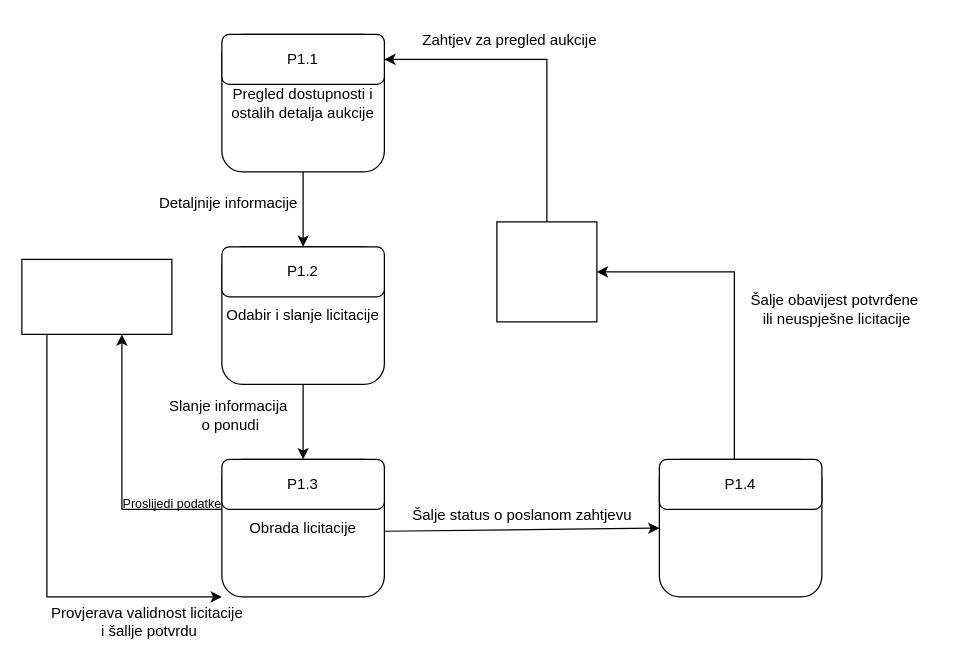
Image size: 956x668. Some labels were removed from this diagram. Each missing label, with the box of its shape:
Aukcijski sustav: (21, 258, 172, 334)
Korisnik: (496, 221, 597, 322)
Obavijest o uspješnosti postavljane licitacije: (658, 458, 822, 597)
